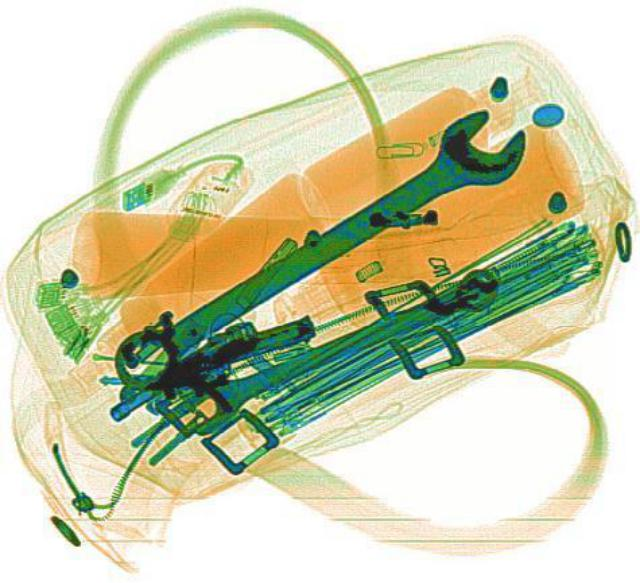Gun: (103, 287, 319, 448)
Wrench: (88, 93, 546, 402), (164, 251, 508, 438)
